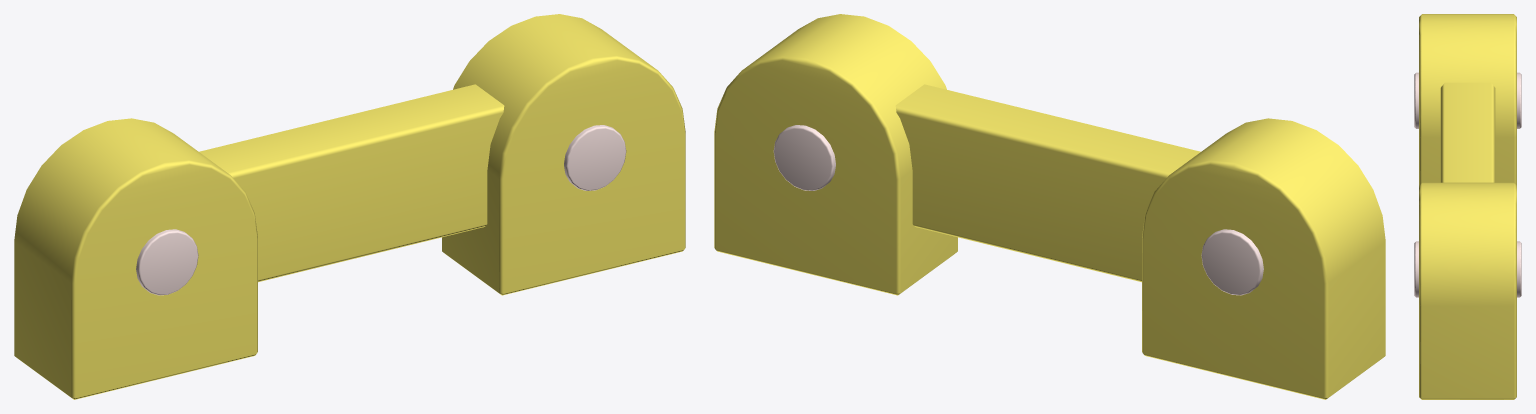
File: City_17_Fence_1.glb
3 renders of one model, left to right at view 1: azimuth 30°, elevation 25°; view 2: azimuth 150°, elevation 25°; view 3: azimuth 270°, elevation 25°, orthographic. The views are drawn at different scales.
Parts seen in each view (by area): view 1: City_17_Fence_1; view 2: City_17_Fence_1; view 3: City_17_Fence_1.
Boxes of the visible parts, <box> form: City_17_Fence_1: <box>14,14,685,399</box>; City_17_Fence_1: <box>714,14,1385,399</box>; City_17_Fence_1: <box>1414,14,1521,399</box>.
Bounding box in the file's own units: 1.14 × 0.3832 × 0.2138.
Materials: 1 (1 with a texture image).
